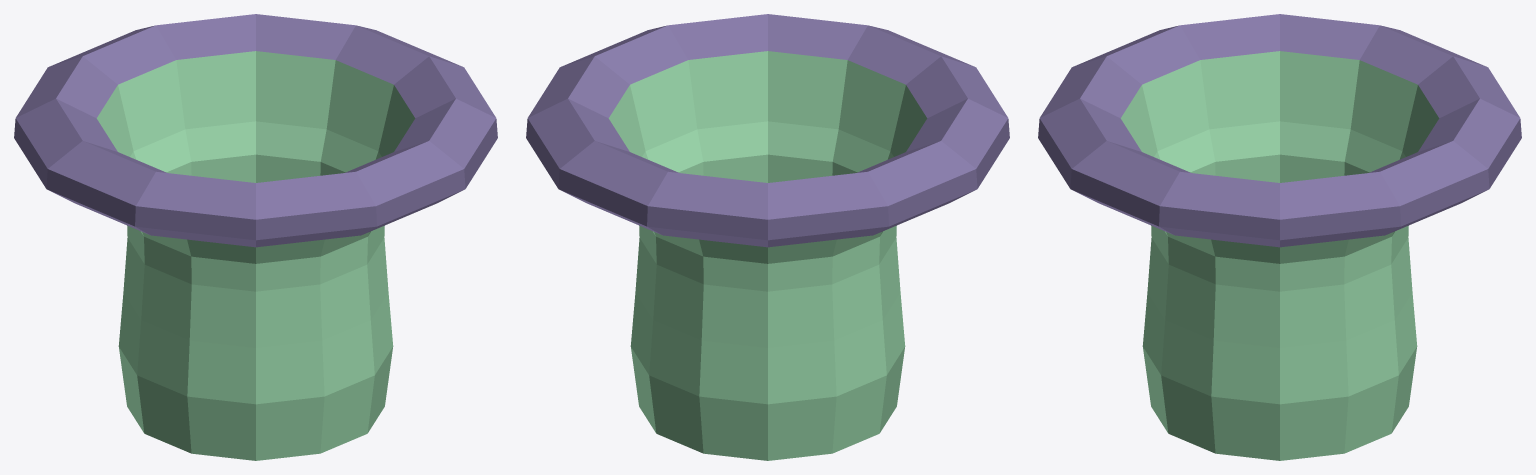
Rendered from FlowerPOne.fbx.
3 views of the same model, side by side, from view 1: azimuth 30°, elevation 25°; view 2: azimuth 150°, elevation 25°; view 3: azimuth 270°, elevation 25° (orthographic).
Visible parts, largest first — view 1: Flower Phase One; view 2: Flower Phase One; view 3: Flower Phase One.
Part boxes in pixels (x1=…): Flower Phase One: x1=14, y1=14, x2=497, y2=460; Flower Phase One: x1=526, y1=14, x2=1009, y2=460; Flower Phase One: x1=1038, y1=14, x2=1521, y2=460.
Size of the model in its own units: 302 by 212 by 302.
